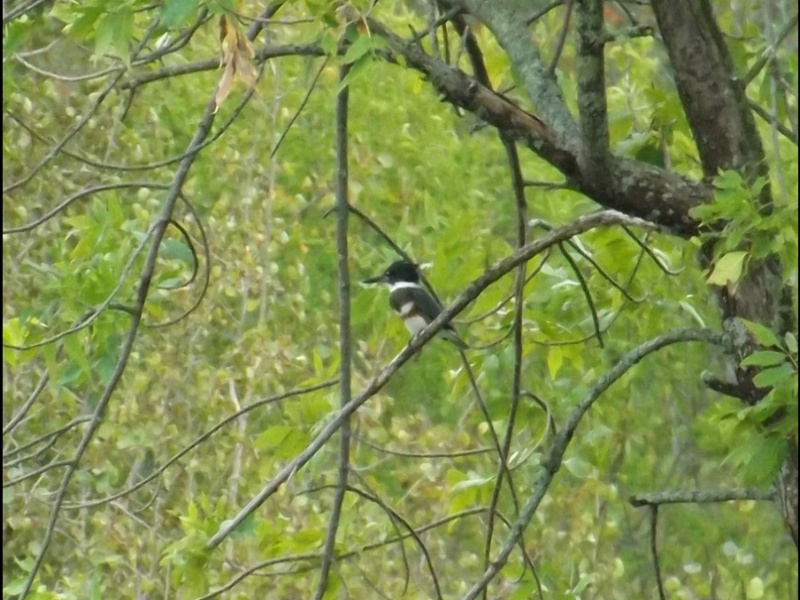kingfisher: (362, 258, 472, 354)
